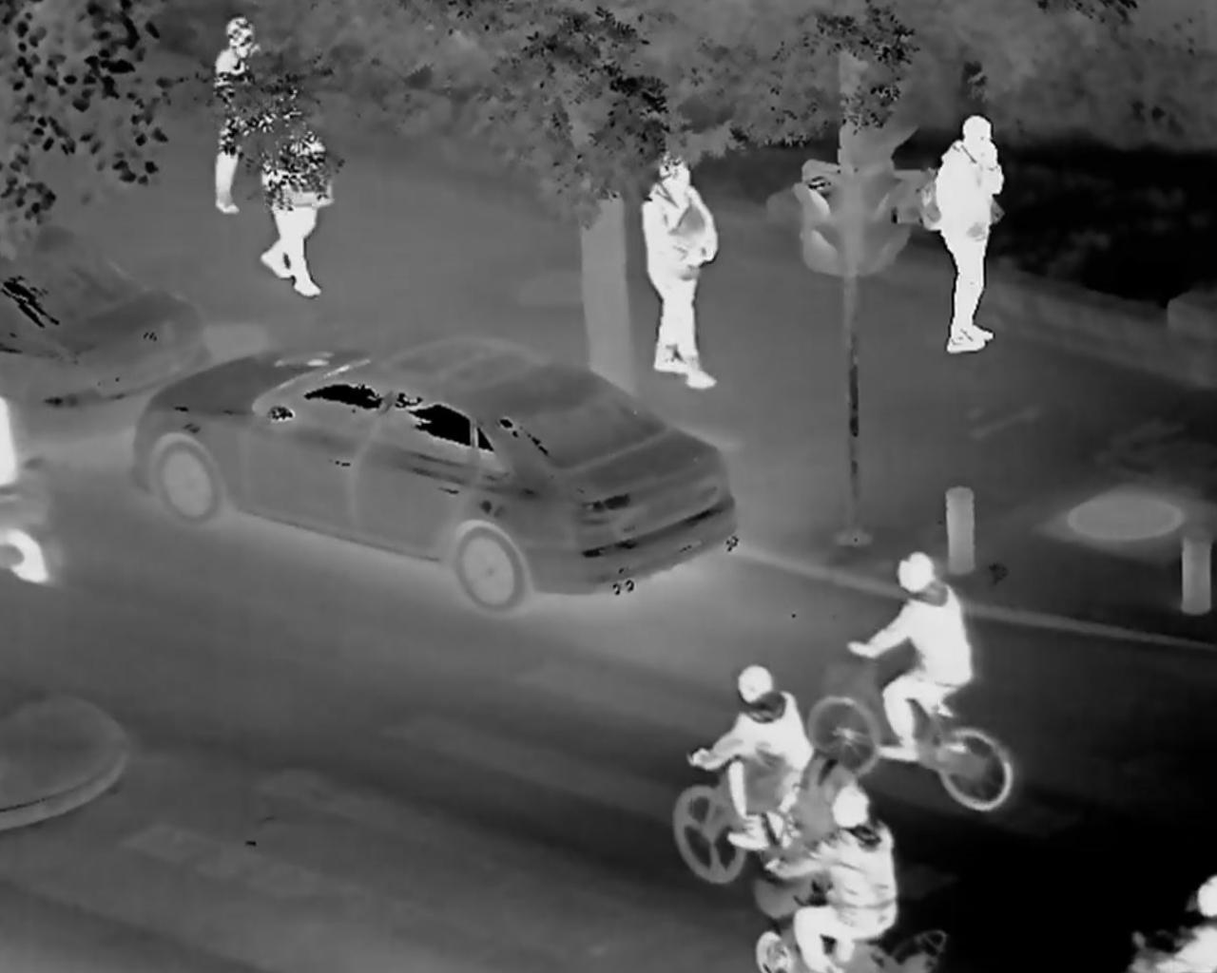person: (850, 546, 974, 762), (771, 781, 898, 973), (687, 659, 809, 849), (927, 111, 1011, 352), (641, 148, 717, 388), (258, 86, 322, 295), (209, 18, 260, 215)
